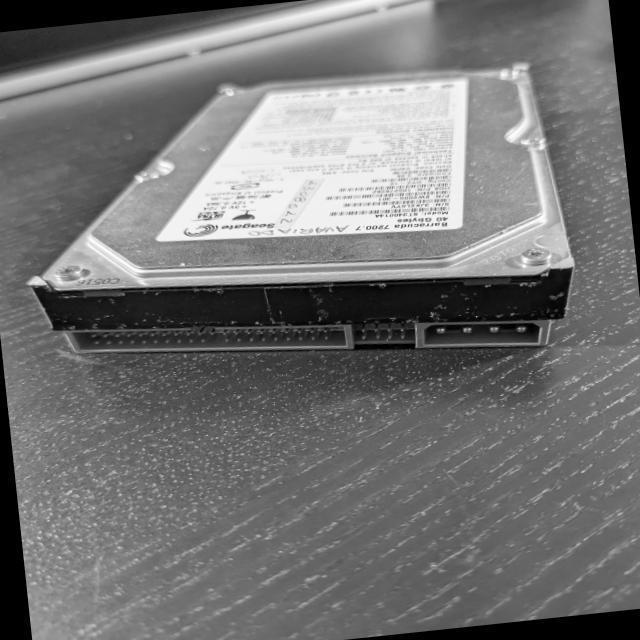DISK: (7, 48, 586, 402)
